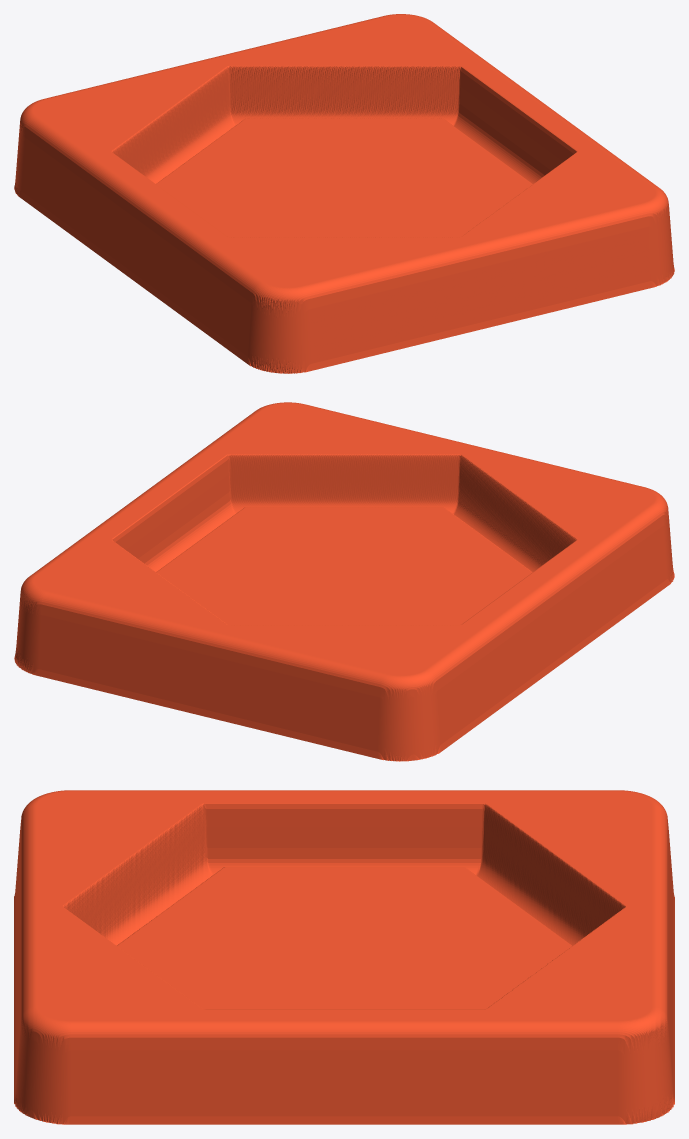
The model's file is mold.glb.
3 views of the same model, one above another, from view 1: azimuth 30°, elevation 25°; view 2: azimuth 150°, elevation 25°; view 3: azimuth 270°, elevation 25° (orthographic). The views are drawn at different scales.
Visible parts, largest first — view 1: geometry_0; view 2: geometry_0; view 3: geometry_0.
Part boxes in pixels (x1,y1,x2,y2): geometry_0: [14, 14, 674, 373]; geometry_0: [14, 402, 674, 761]; geometry_0: [14, 790, 674, 1124].
Size of the model in its own units: 0.0934 by 0.0165 by 0.105.
